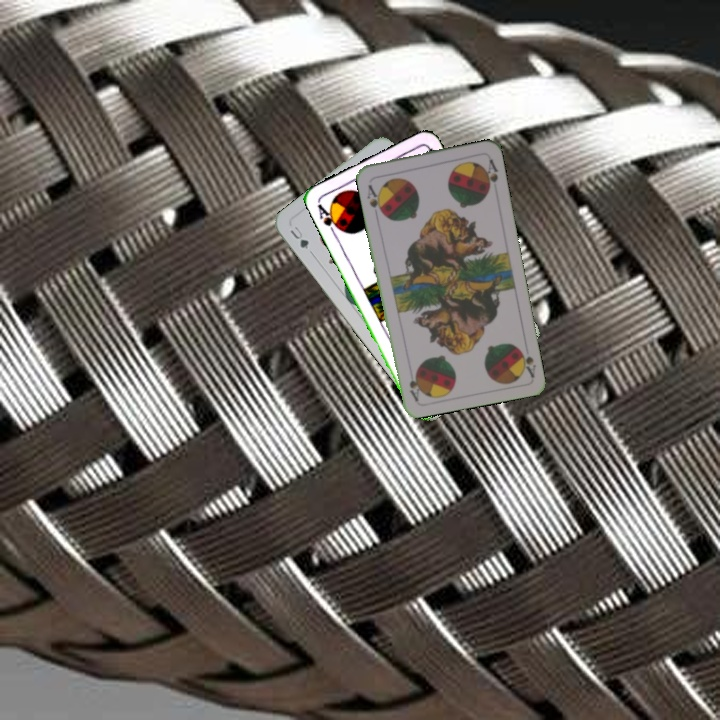GU: (286, 221, 311, 252)
SA: (314, 200, 344, 237), (514, 343, 538, 380), (363, 180, 386, 217)
